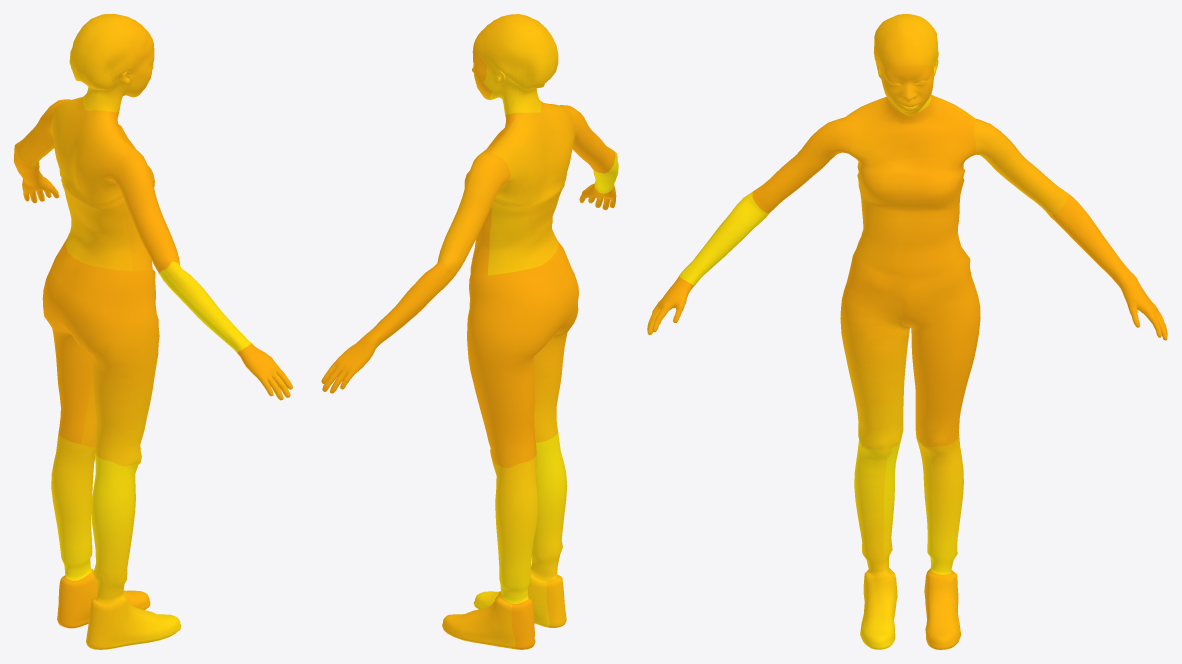
Rendered from yellow.gltf.
3 views of the same model, side by side, from view 1: azimuth 30°, elevation 25°; view 2: azimuth 150°, elevation 25°; view 3: azimuth 270°, elevation 25° (orthographic).
Visible parts, largest first — view 1: rp_alison_rigged_001_geo.002; view 2: rp_alison_rigged_001_geo.002; view 3: rp_alison_rigged_001_geo.002.
Boxes of the visible parts, left/top/right/bottom form: rp_alison_rigged_001_geo.002: left=14, top=14, right=292, bottom=649; rp_alison_rigged_001_geo.002: left=321, top=14, right=618, bottom=649; rp_alison_rigged_001_geo.002: left=647, top=14, right=1167, bottom=649.
Size of the model in its own units: 35.15 by 170 by 132.
Materials: 1 (1 with a texture image).
